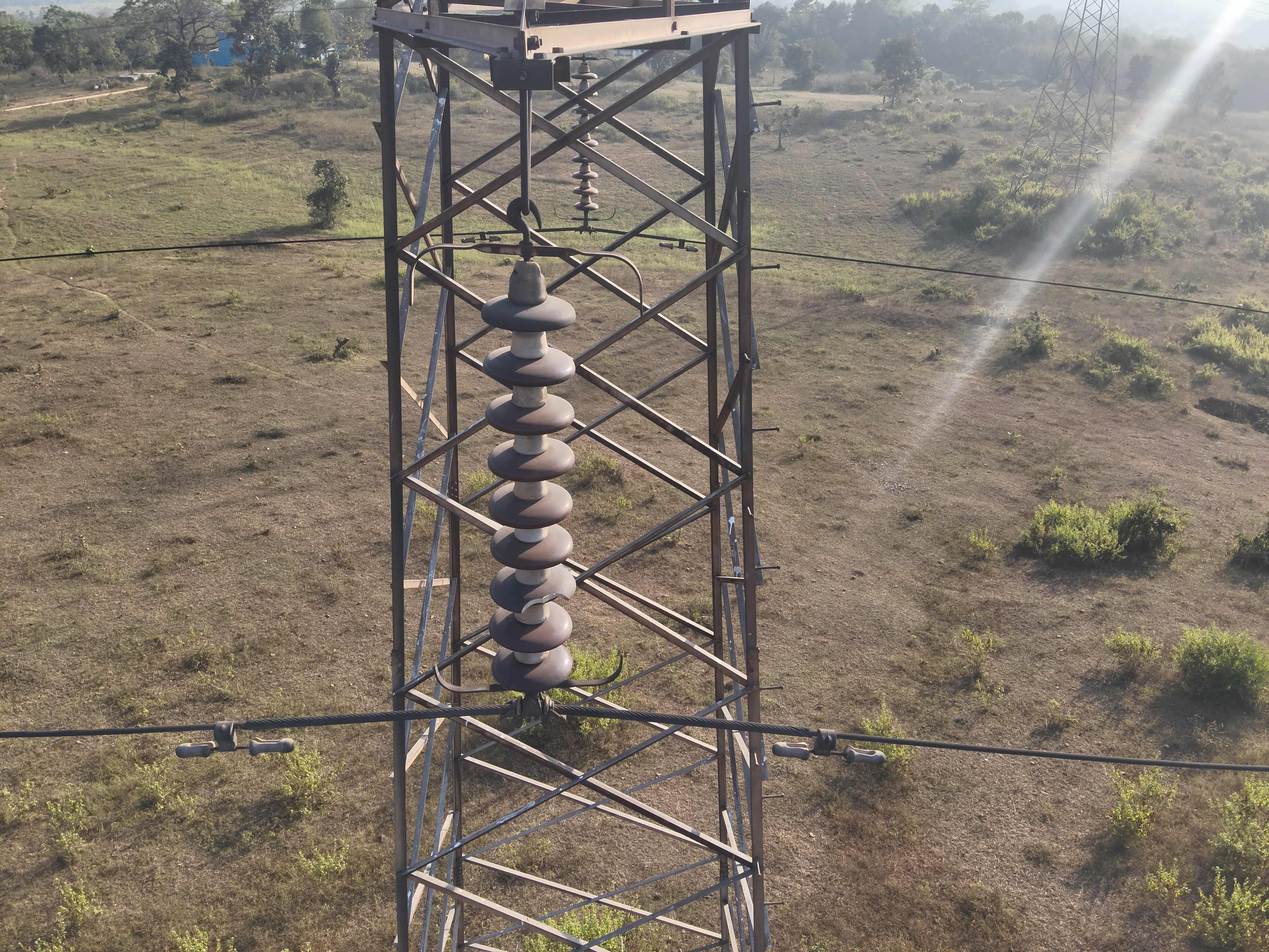broken_insulator: (489, 567, 579, 616), (573, 202, 599, 211)
